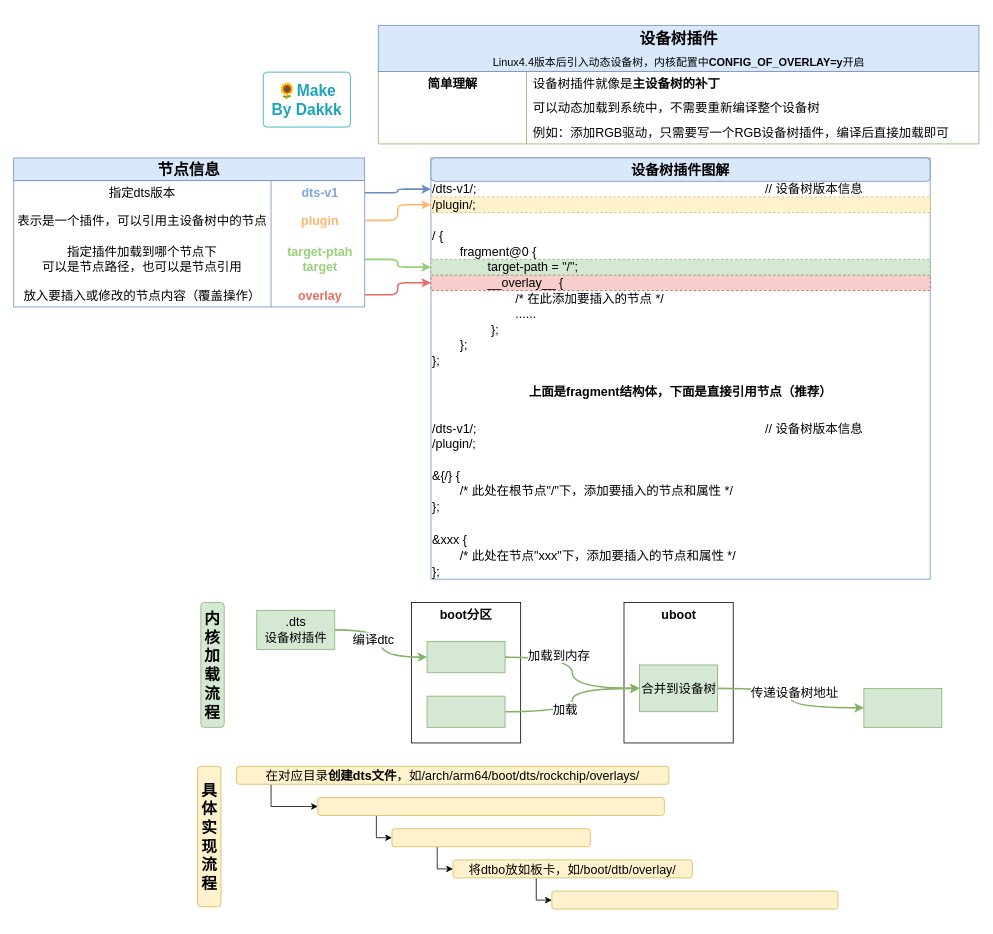
The diagram is 993 pixels wide and 934 high, and some of its shapes have lost their labels. The centre of each missing label's shape, as x and y in pixels:
"DTB" belongs at (465,711).
"DTBO" belongs at (465,657).
"Kernel" belongs at (902,707).
"使用编译设备树命令 编译出dtbo" belongs at (490,837).
"修改makefile ，添加编辑好的文件，如上面目录的Makefile" belongs at (490,806).
"修改板卡配置，添加dtbo，如 /boot/uEnv/uEnv.txt" belongs at (694,899).
